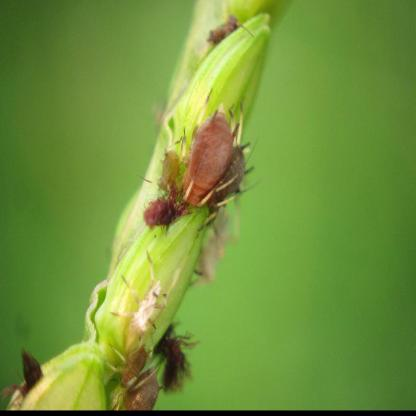aphid: (176, 94, 241, 220), (208, 127, 259, 238), (140, 144, 200, 198), (107, 334, 152, 387), (124, 359, 165, 415), (200, 14, 250, 50)
